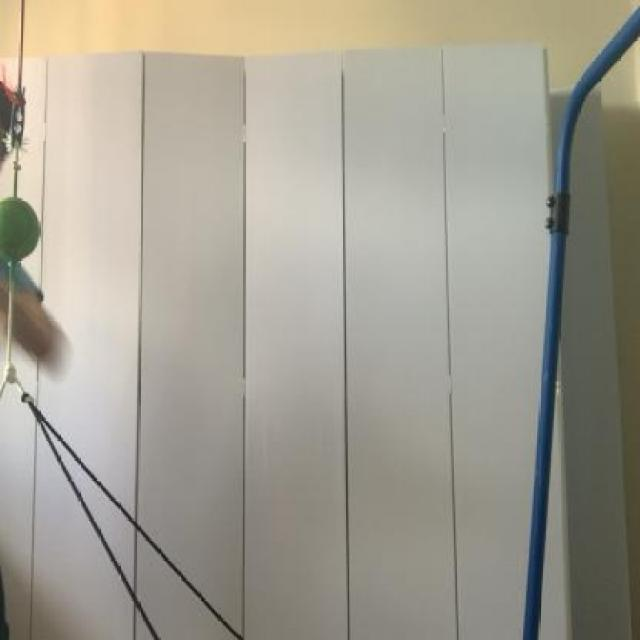baseball: (1, 188, 44, 272)
